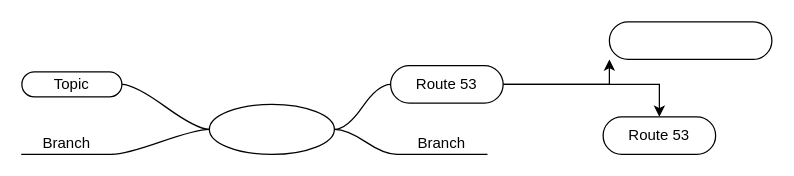
Some shapes in this 794 by 176 pixel diagram are drawn without their labels. The shapes that lost their labels are listed below. From the top down, each one's centre as x and y in pixels, then its label:
At point 690,40: "Failover Routing".
At point 271,128: "AWS".
